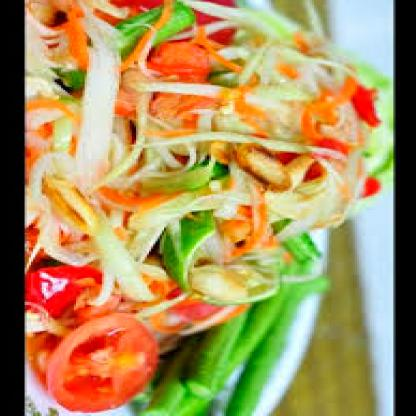Papaya Salad: (0, 1, 401, 415)
